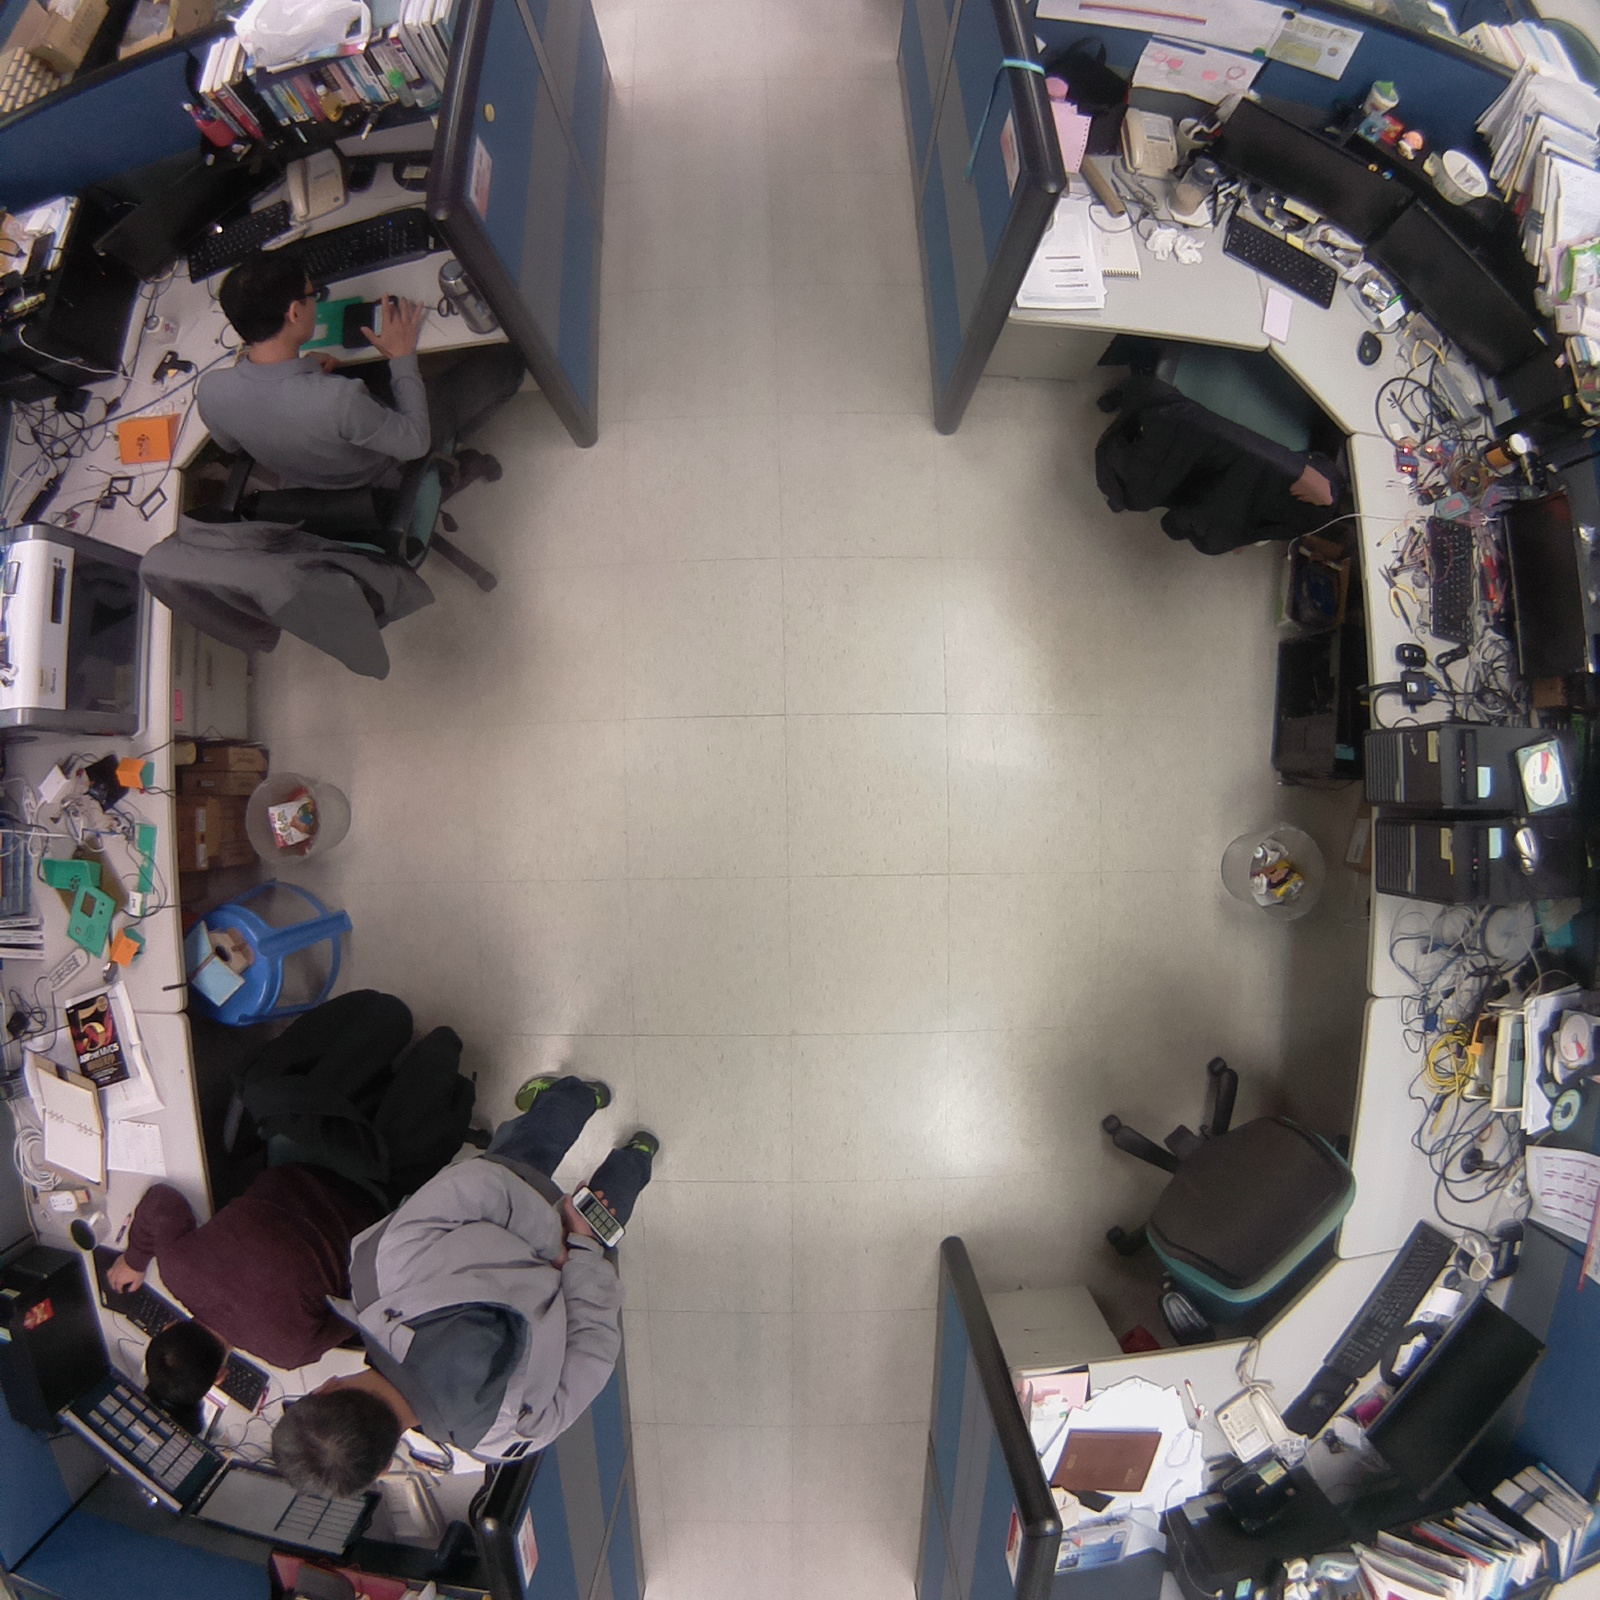chair: (1081, 1042, 1376, 1368), (1081, 319, 1360, 573)
head: (259, 1372, 406, 1506), (215, 248, 327, 359), (140, 1314, 229, 1417)
sitting: (129, 241, 535, 706), (132, 978, 483, 1407)
standing: (267, 1052, 683, 1503)
